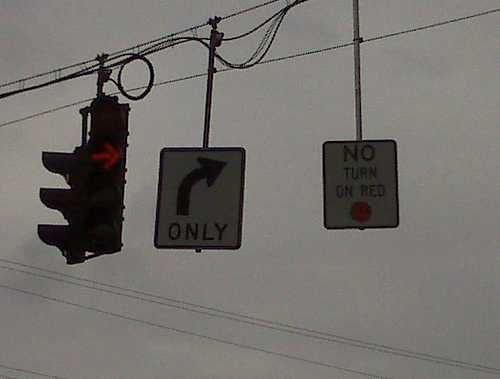red: (86, 100, 127, 259), (83, 141, 124, 174)
